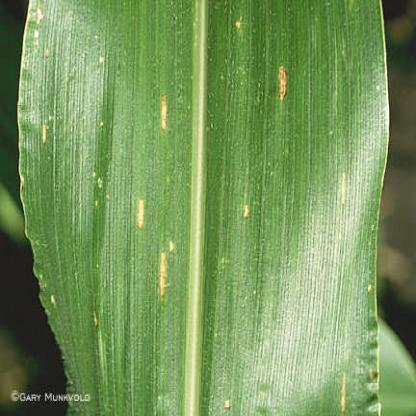Corn Gray leaf spot: (13, 1, 395, 414)
